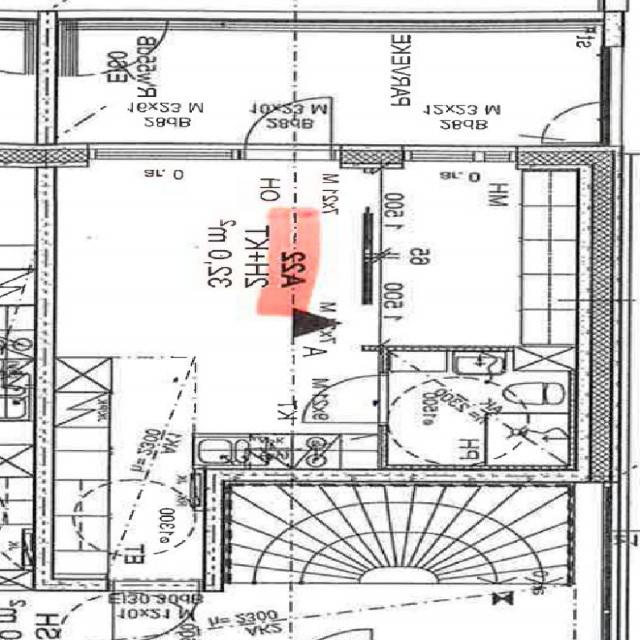door: (246, 93, 332, 169), (114, 577, 200, 640), (302, 376, 389, 422)
